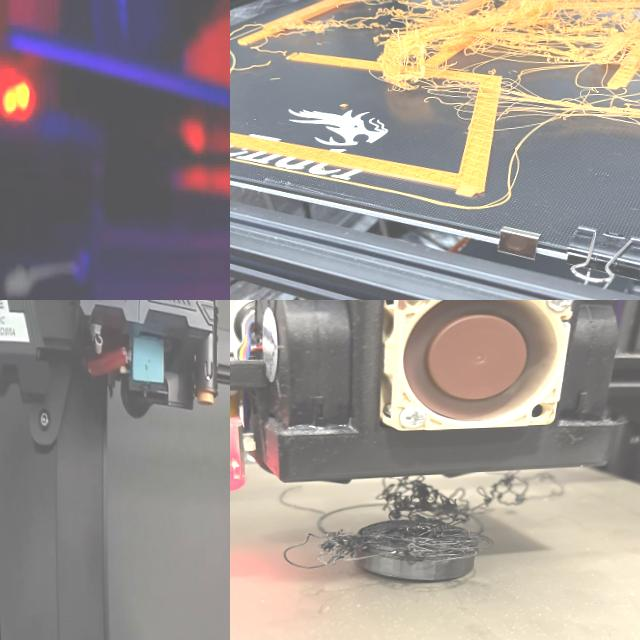spaghetti: (282, 476, 483, 586), (475, 471, 556, 508)
